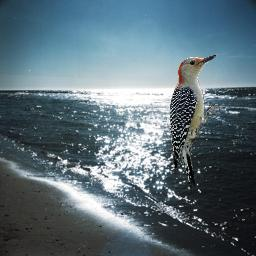Woodpecker: (170, 51, 221, 197)
